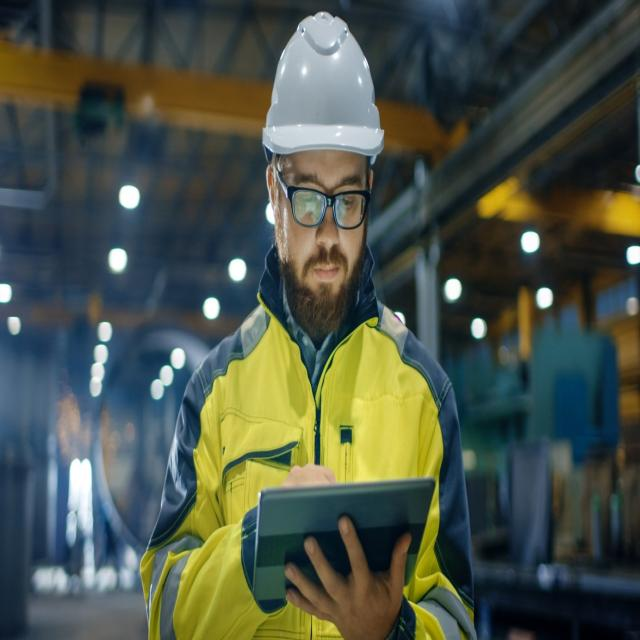goggles: (270, 162, 385, 259)
helmet: (263, 9, 387, 168)
vest: (177, 323, 476, 620)
